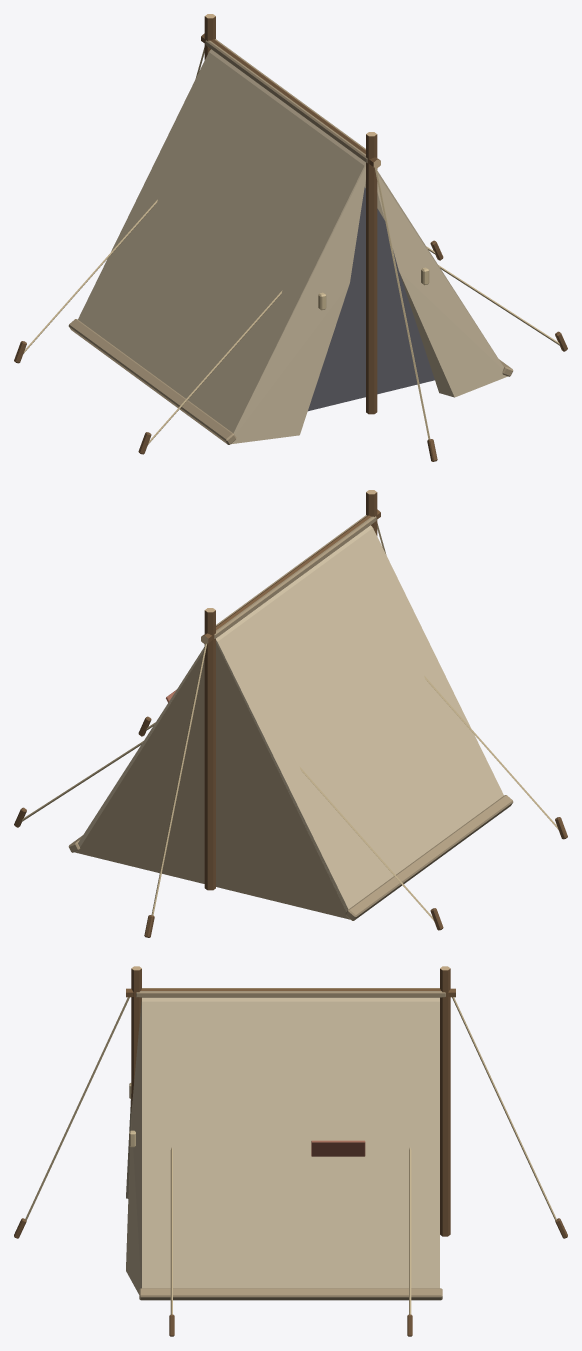
File: tent.glb
3 renders of one model, top to bottom at view 1: azimuth 30°, elevation 25°; view 2: azimuth 150°, elevation 25°; view 3: azimuth 270°, elevation 25°, orthographic. The views are drawn at different scales.
Parts seen in each view (by area): view 1: Tent; view 2: Tent; view 3: Tent.
Boxes of the visible parts, x1,y1,x2,y2 form: Tent: (14,14,567,461); Tent: (14,490,567,937); Tent: (14,966,567,1336).
Size of the model in its own units: 3.49 by 2.2 by 4.09.
